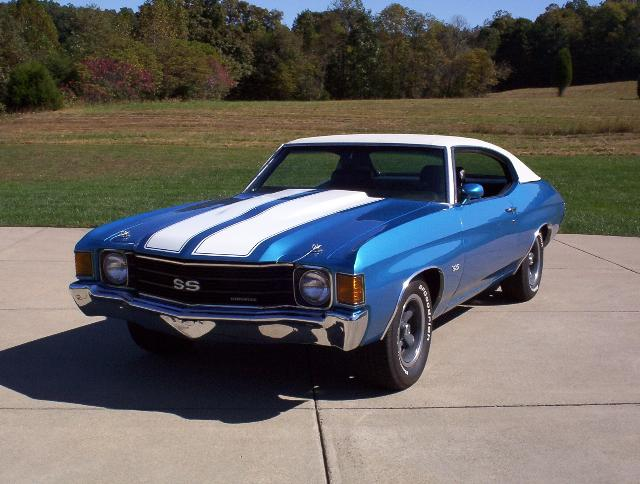chevelle-1972: (69, 135, 565, 389)
